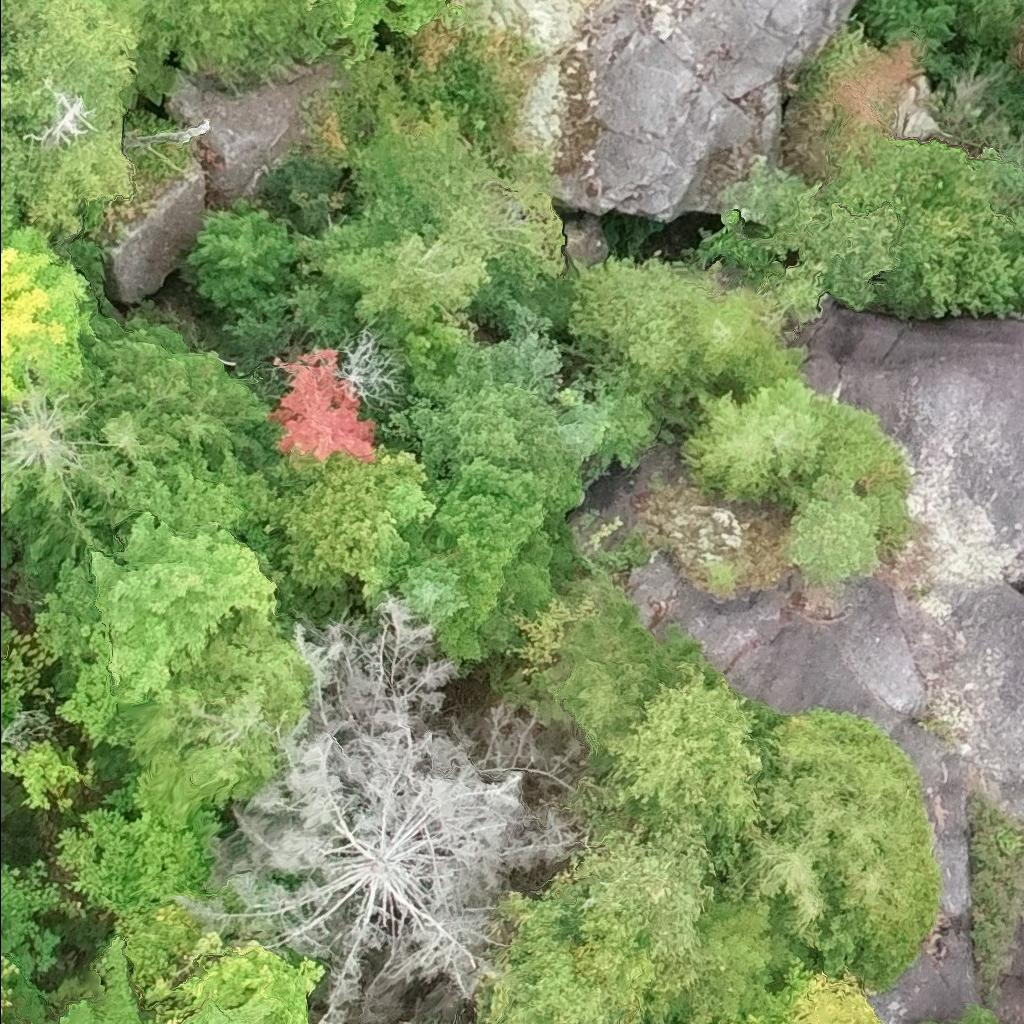crown: (209, 587, 586, 1023), (467, 817, 716, 1023), (835, 130, 1023, 318), (0, 0, 137, 248), (139, 623, 313, 818), (601, 665, 766, 844), (536, 596, 705, 759), (773, 706, 924, 869), (0, 222, 95, 430), (758, 177, 901, 309), (816, 846, 937, 988), (719, 809, 838, 929), (758, 770, 887, 875), (390, 543, 492, 675), (269, 341, 377, 465), (141, 0, 312, 78), (677, 384, 788, 504), (302, 0, 457, 62), (765, 377, 839, 482), (332, 323, 410, 422), (787, 960, 884, 1023), (953, 1003, 998, 1023), (747, 1013, 790, 1023), (1011, 31, 1023, 66), (0, 447, 6, 467), (919, 1020, 928, 1023)
